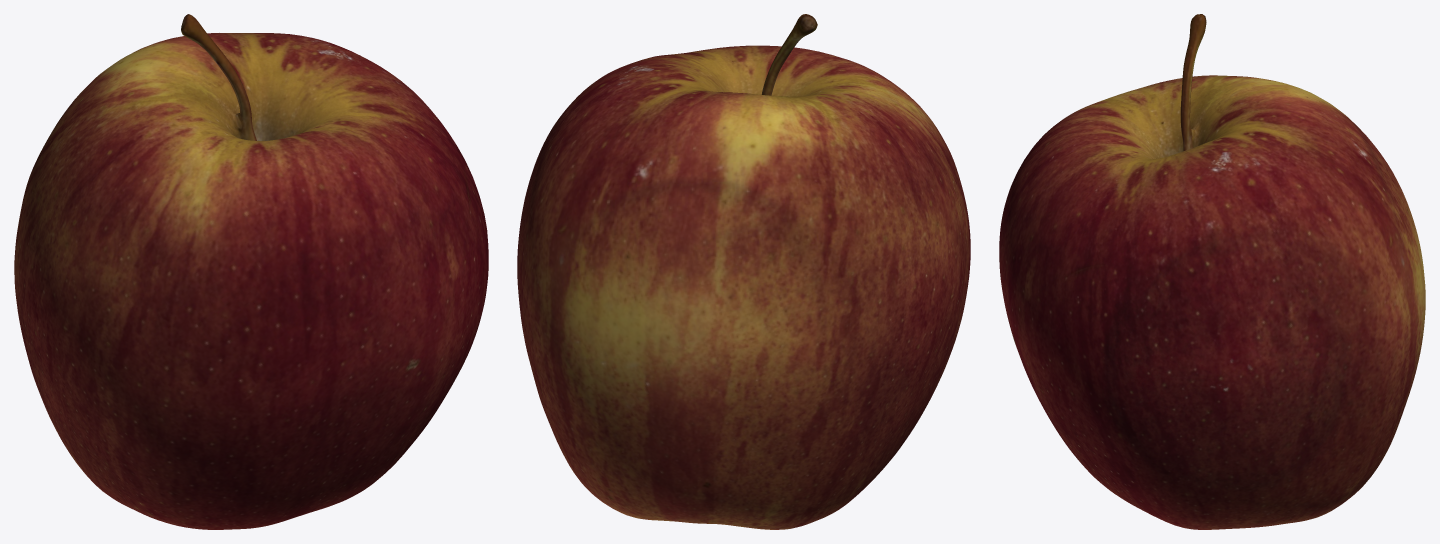
Rendered from apple_2.glb.
3 views of the same model, side by side, from view 1: azimuth 30°, elevation 25°; view 2: azimuth 150°, elevation 25°; view 3: azimuth 270°, elevation 25° (orthographic). The views are drawn at different scales.
Parts seen in each view (by area): view 1: Apple Scanned; view 2: Apple Scanned; view 3: Apple Scanned.
Boxes of the visible parts, bbox=[...] form: Apple Scanned: bbox=[14, 14, 488, 529]; Apple Scanned: bbox=[517, 14, 970, 529]; Apple Scanned: bbox=[999, 14, 1425, 529].
Bounding box in the file's own units: 0.0827 × 0.0977 × 0.0838.
Materials: 1 (1 with a texture image).
